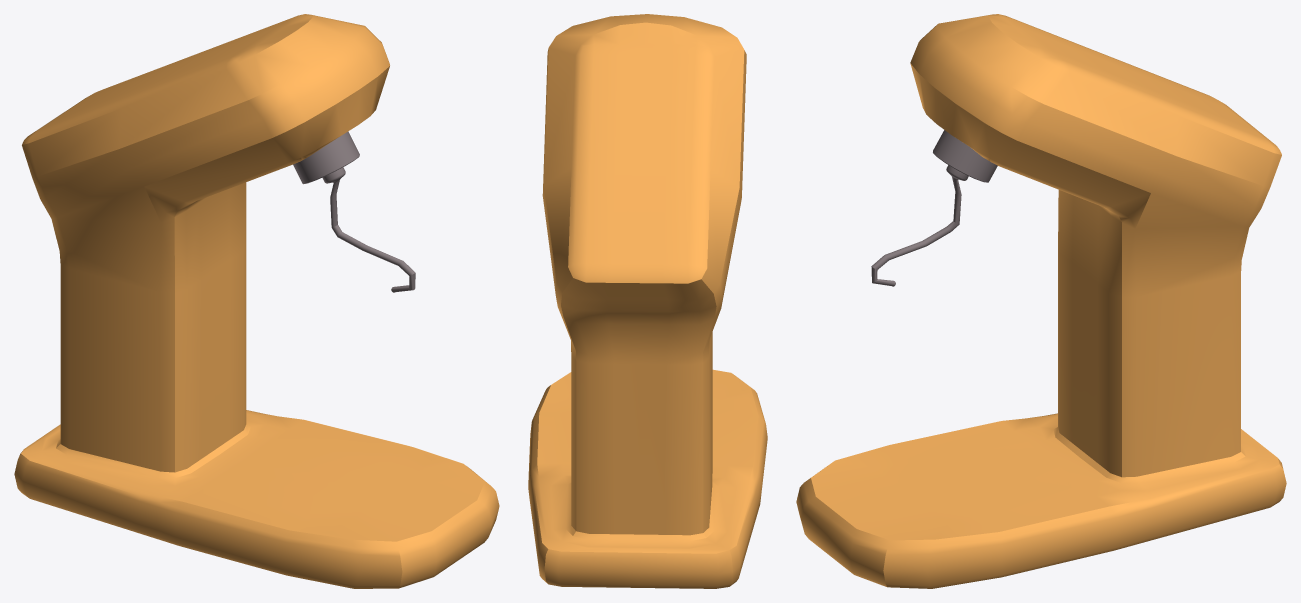
File: standmixer.fbx
The picture shows the model from 3 angles, left to right: view 1: azimuth 30°, elevation 25°; view 2: azimuth 150°, elevation 25°; view 3: azimuth 270°, elevation 25°; orthographic projection. The views are drawn at different scales.
Parts seen in each view (by area): view 1: stand mixer up; view 2: stand mixer up; view 3: stand mixer up.
Boxes of the visible parts, left/top/right/bottom form: stand mixer up: left=14, top=14, right=499, bottom=588; stand mixer up: left=528, top=14, right=767, bottom=588; stand mixer up: left=796, top=14, right=1286, bottom=588.
Size of the model in its own units: 32.42 by 45.67 by 41.35.
